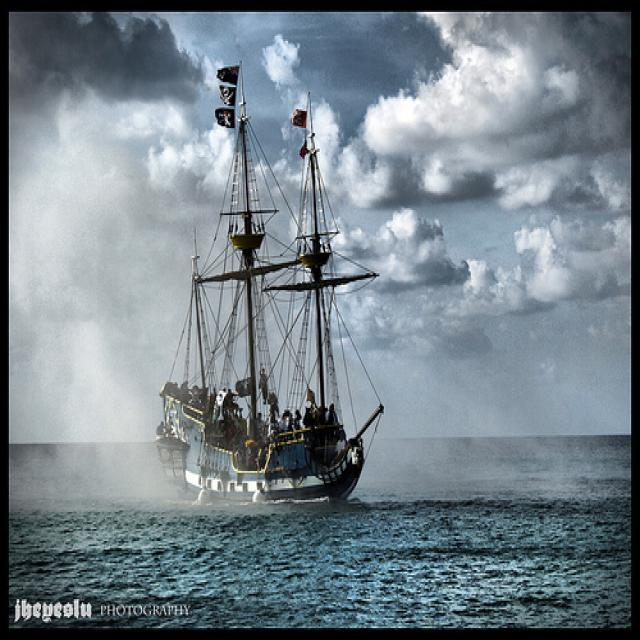Ship: (161, 84, 376, 511)
